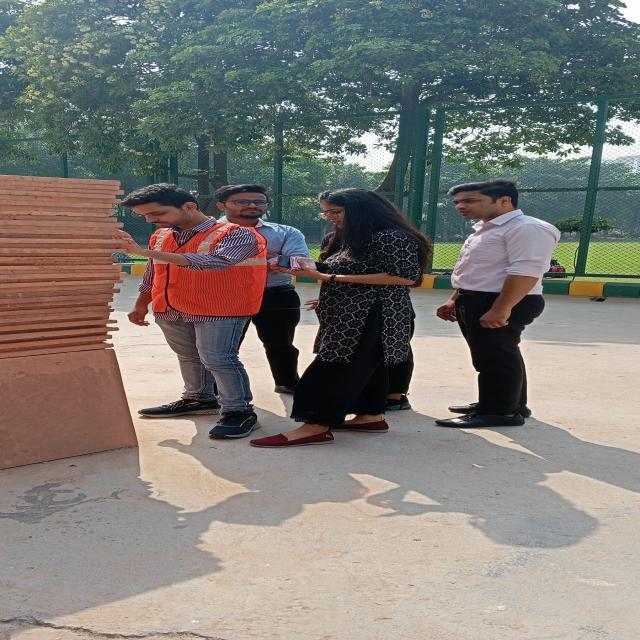unsafe: (291, 186, 428, 451), (121, 182, 257, 437), (440, 179, 559, 428)
